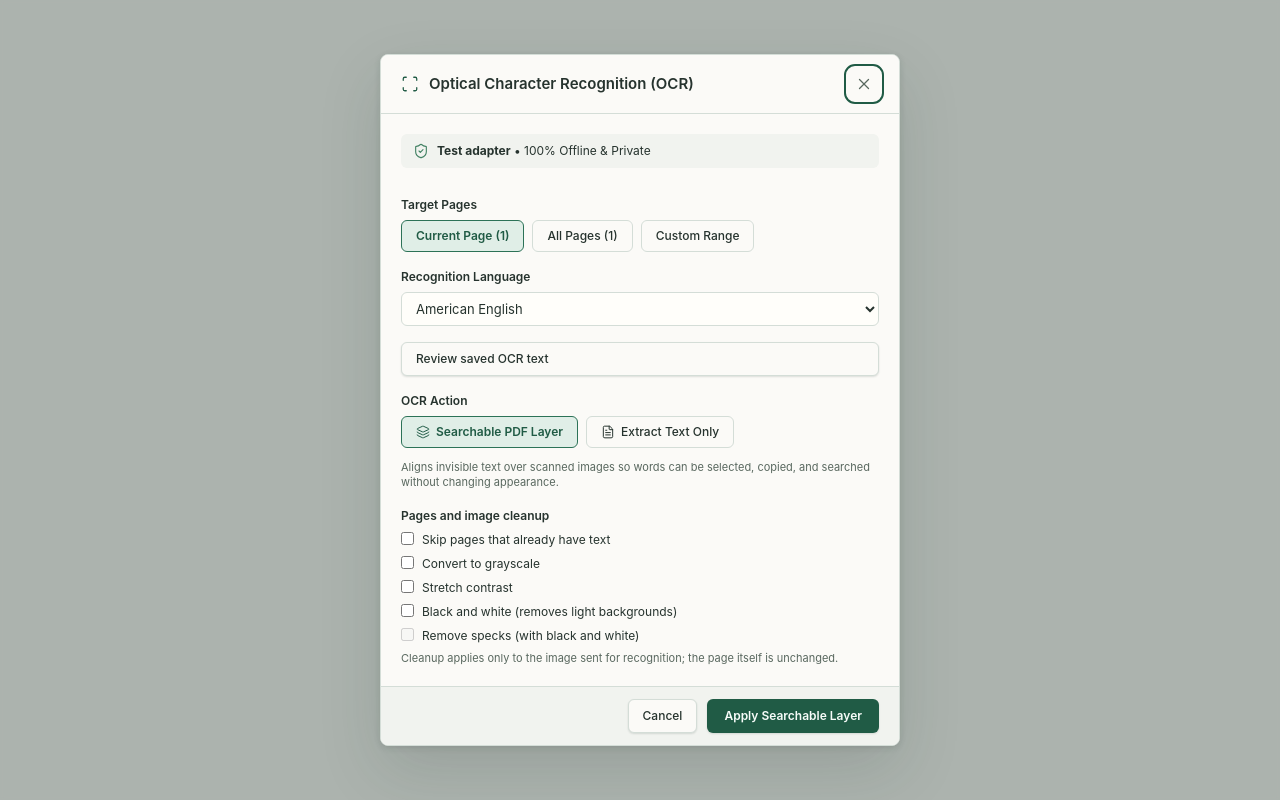
Test case: OcrPanel UI Component (P6.4) › does not apply the final page after cancellation
Click the button "Apply Searchable Layer" at (793, 716), box [707,699,879,733]
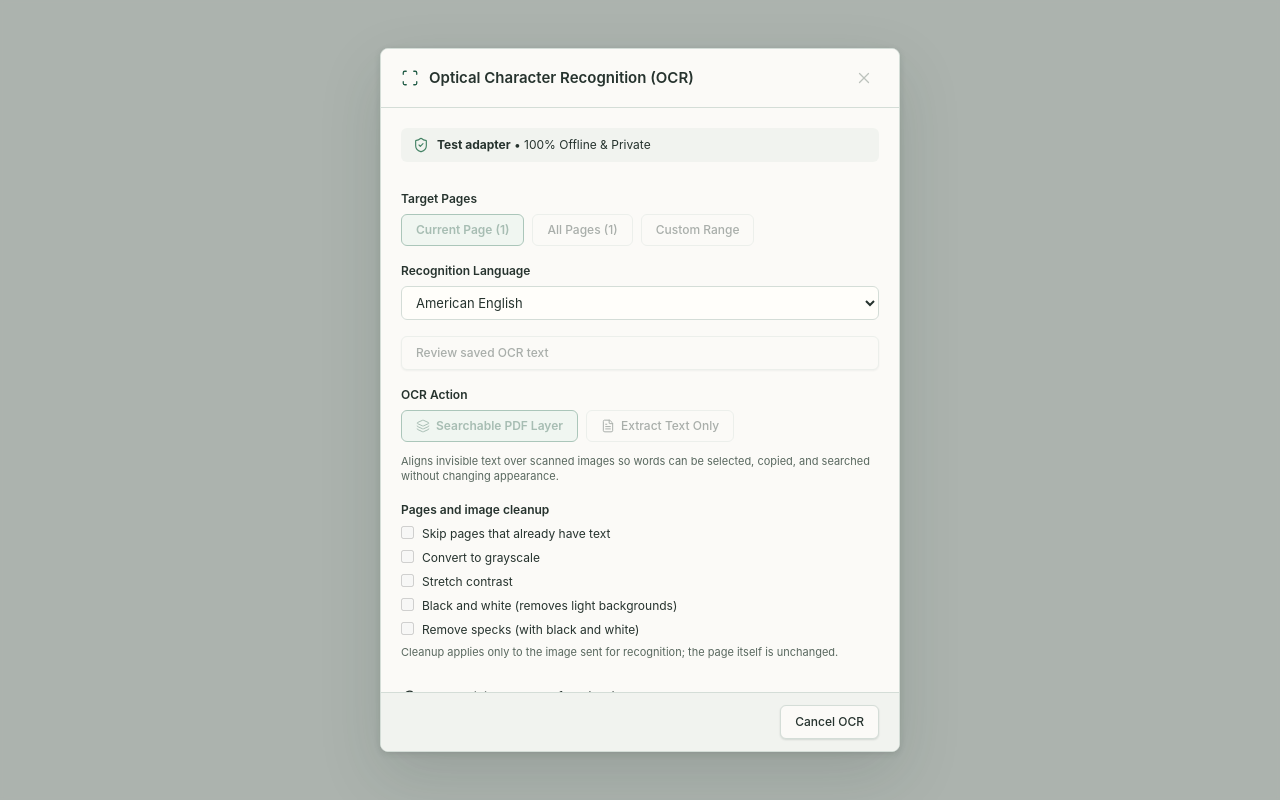
Click the button "Cancel OCR" at (830, 722), box [780,705,879,739]
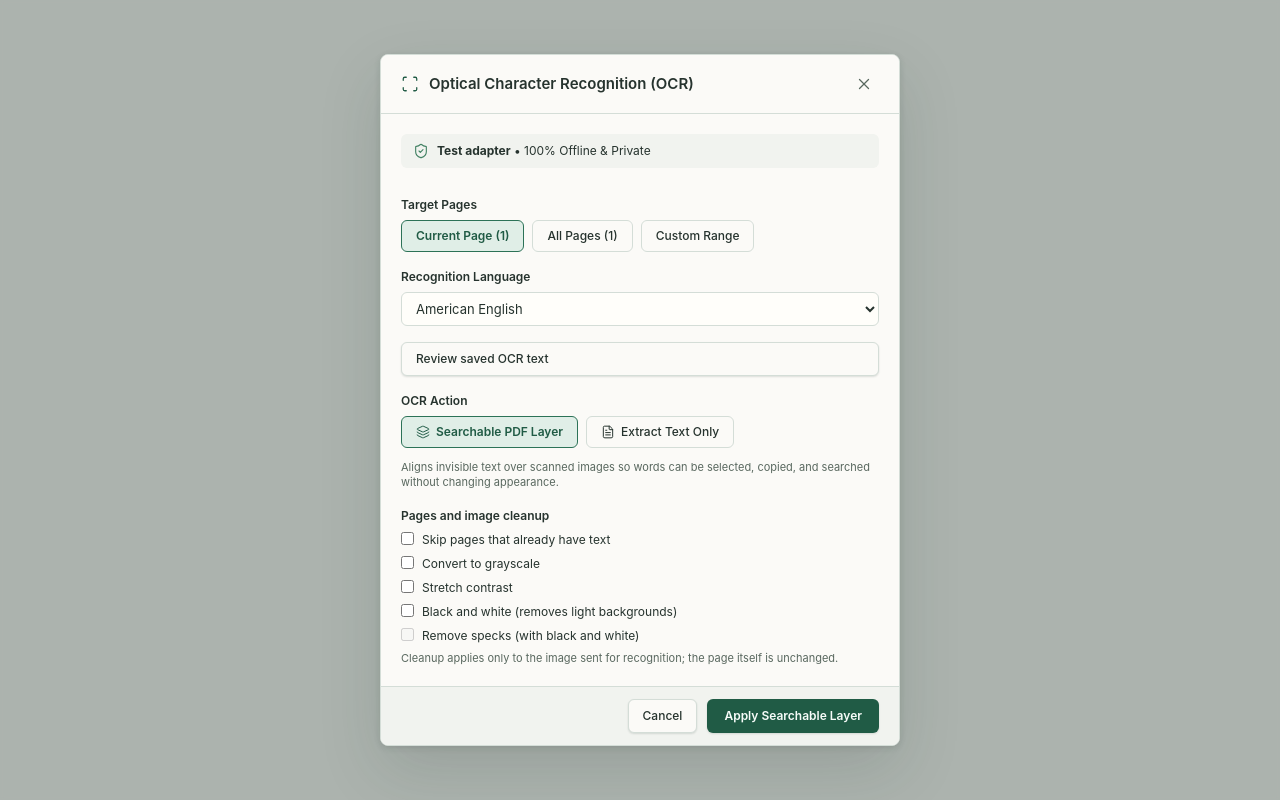
Expected: the button "Cancel OCR" is gone
